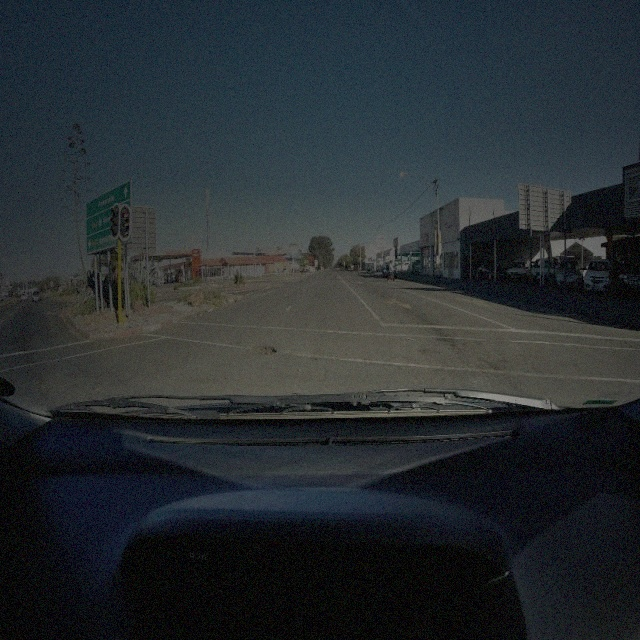pothole: (247, 341, 280, 356)
